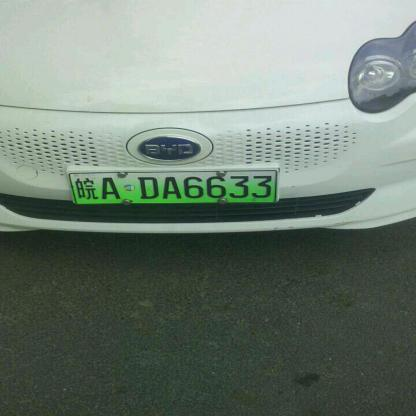lp: (69, 172, 275, 202)
